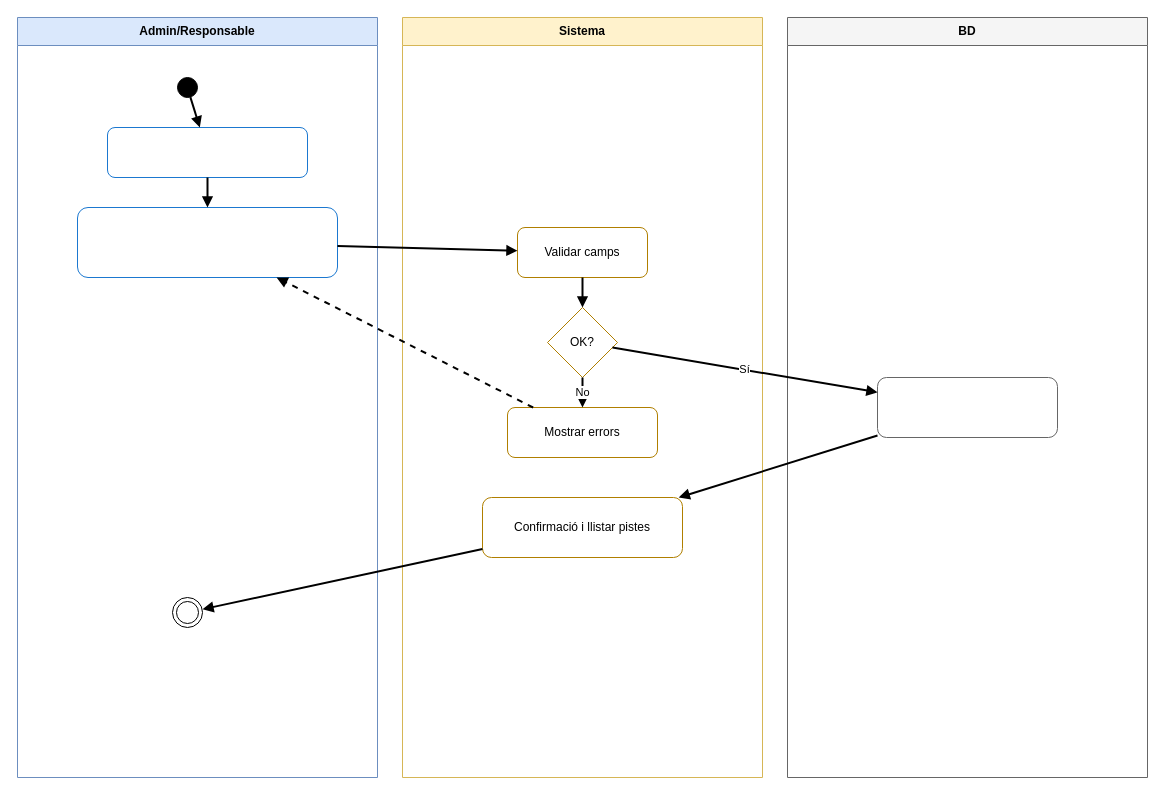
Image size: 1165x795. Some labels were removed from this diagram. The box of each missing label's shape, as (x1, y1, x2, y2) in pixels:
Anar a “Crear pista”: (106, 126, 308, 178)
Inserir pista (pistes): (876, 376, 1058, 438)
Omplir dades (nom, activa, doble vidre, imatge): (76, 206, 338, 278)
